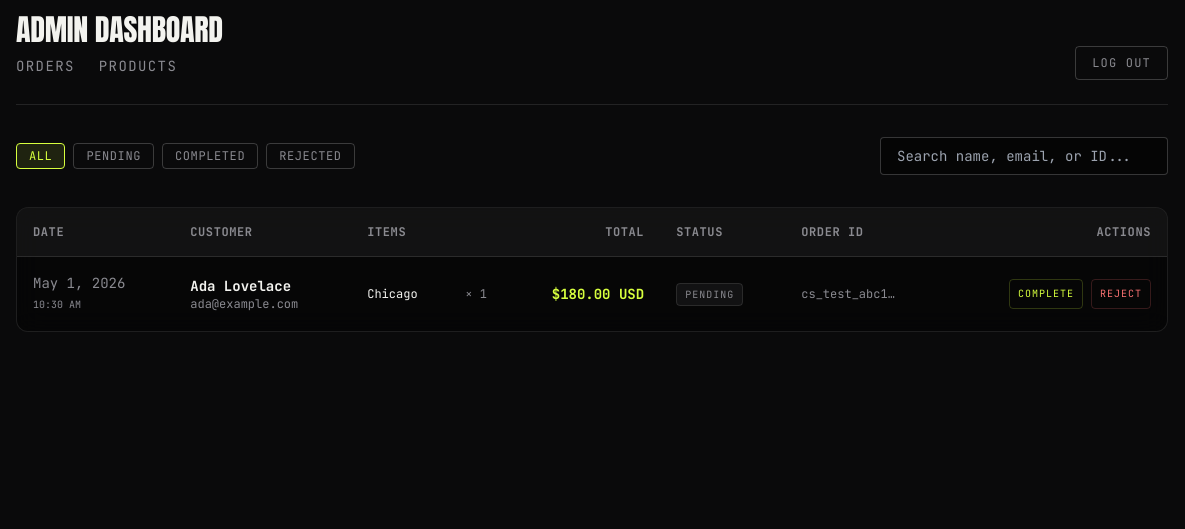
Test: row expansion › collapses again on a second click
Check: the text "Ada Lovelace" is shown, box [190,277,291,295]
Step 1. Click the text "ada@example.com" → (244,304), box [190,296,298,312]
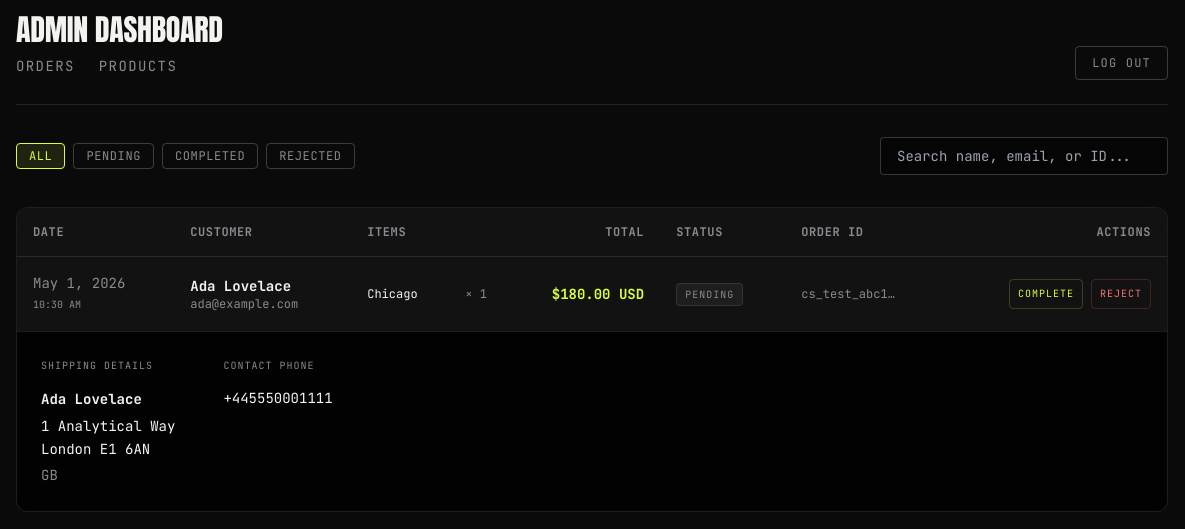
Check: the heading "Shipping Details" is shown, box [41,359,153,372]
Step 2. Click the text "ada@example.com" → (244,304), box [190,296,298,312]
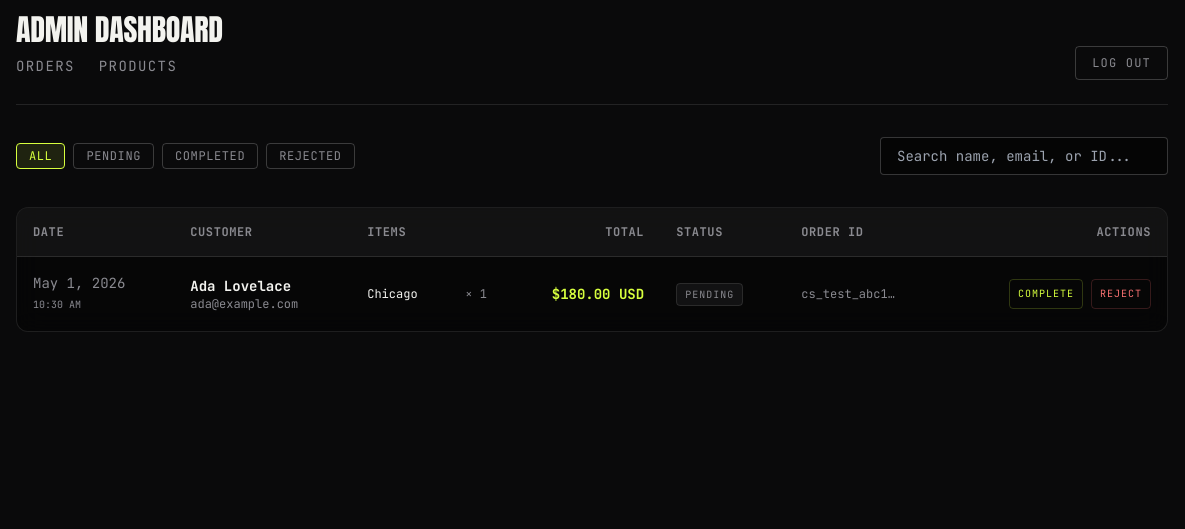
Check: the heading "Shipping Details" is gone
